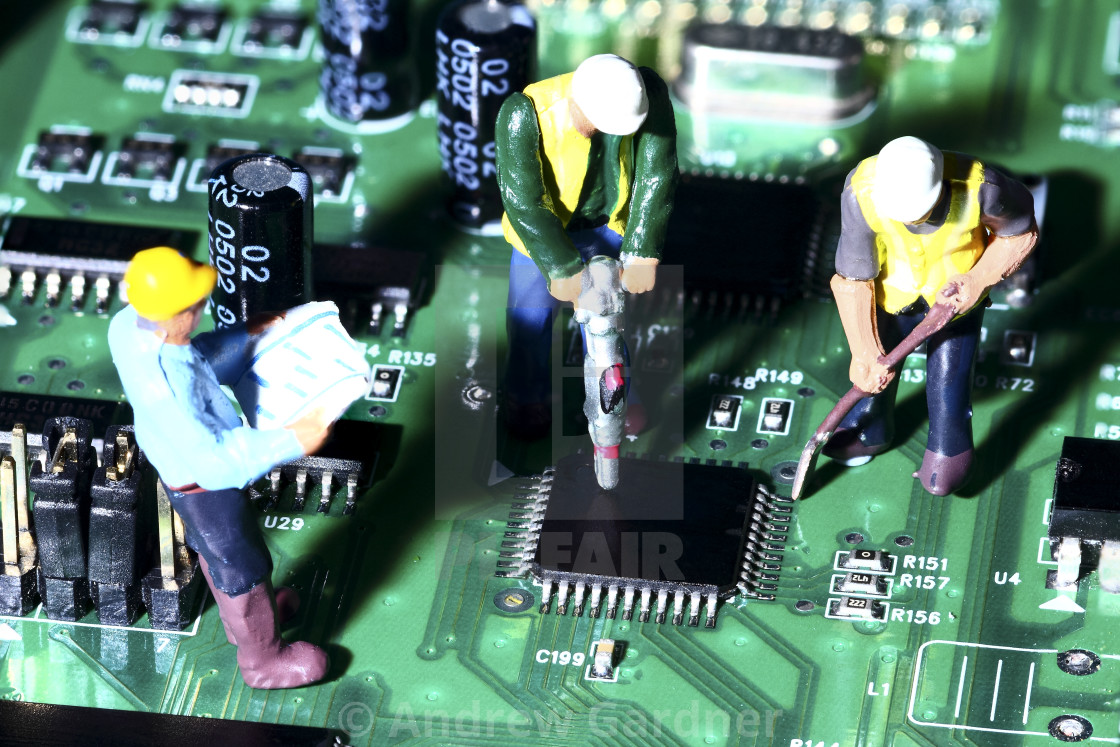capacitor: (198, 140, 335, 386), (434, 9, 543, 215)
